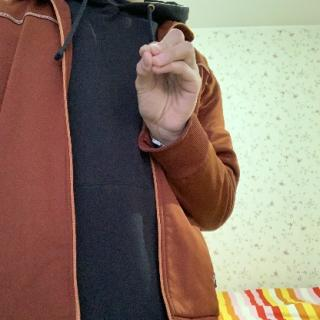HA: (130, 28, 205, 151)
